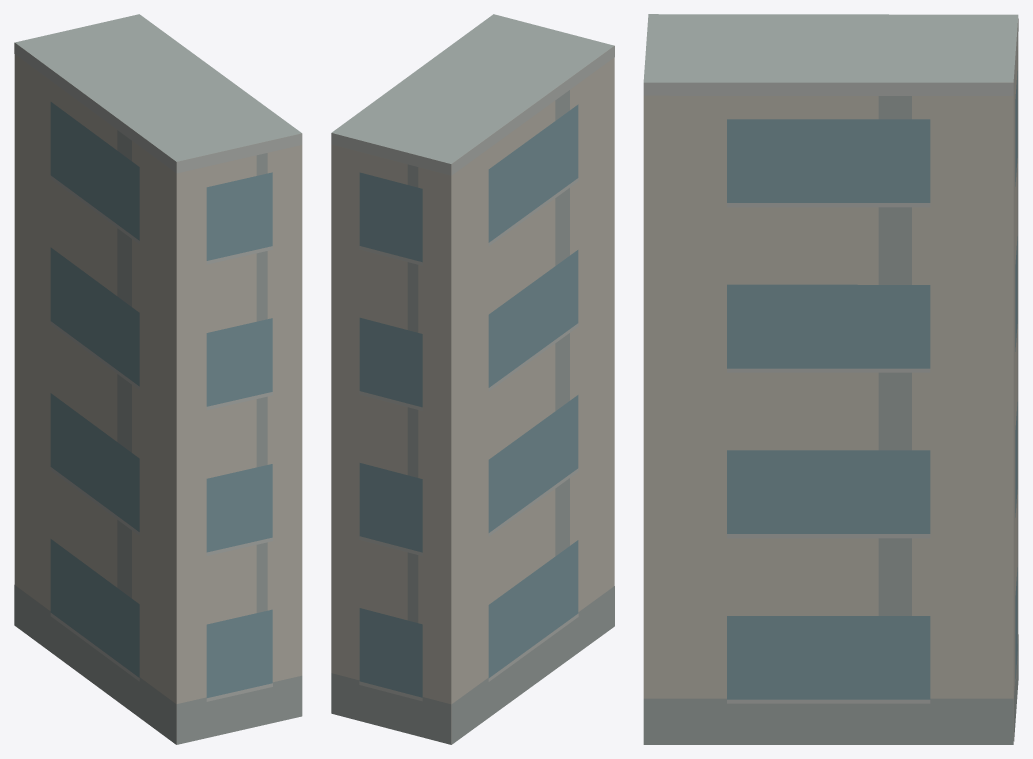
The model's file is survey-upis-32623380.glb.
The picture shows the model from 3 angles, left to right: view 1: azimuth 30°, elevation 25°; view 2: azimuth 150°, elevation 25°; view 3: azimuth 270°, elevation 25°; orthographic projection. The views are drawn at different scales.
Parts seen in each view (by area): view 1: survey-upis-32623380.tmp; view 2: survey-upis-32623380.tmp; view 3: survey-upis-32623380.tmp.
Part boxes in pixels (x1,y1,x2,y2): survey-upis-32623380.tmp: (14,14,302,744); survey-upis-32623380.tmp: (331,14,614,744); survey-upis-32623380.tmp: (643,14,1018,744).
Bounding box in the file's own units: 2.73 × 12.2 × 6.27.
